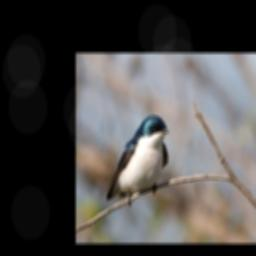Swallow: (105, 114, 169, 208)
